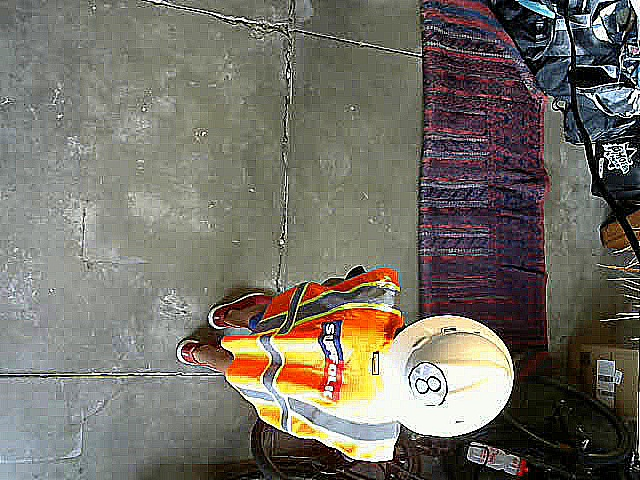eight: (408, 360, 447, 408)
